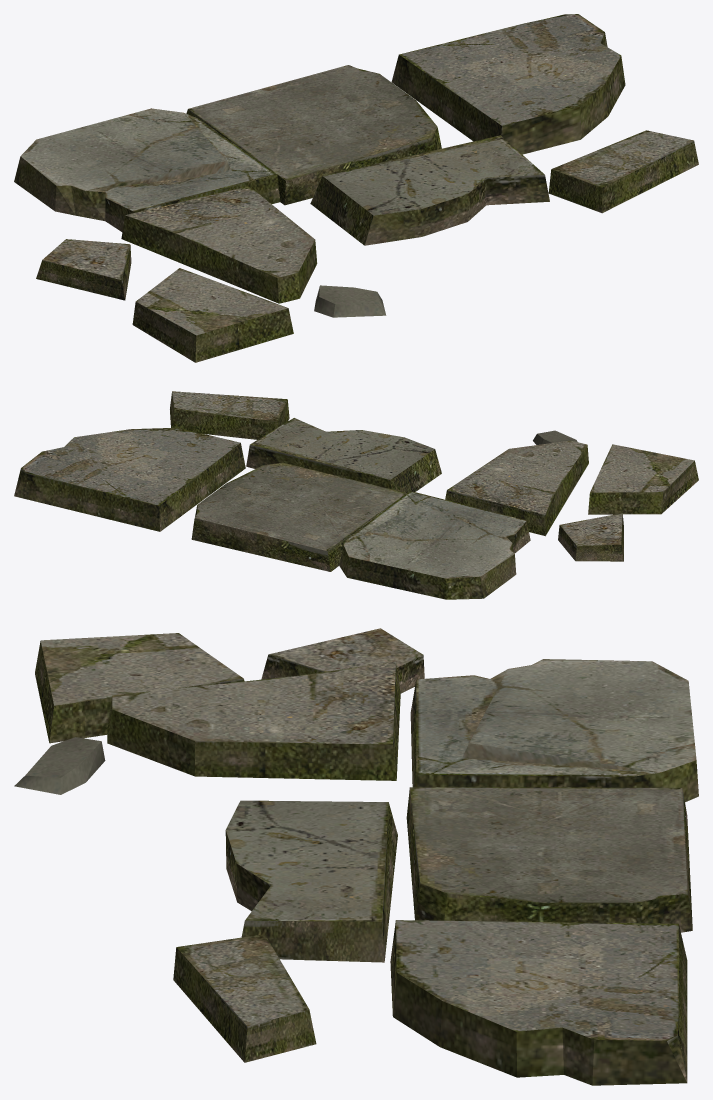
Rendered from bg_lut_lutomb_floorpiece01c_sm_old.FBX.
The picture shows the model from 3 angles, top to bottom: view 1: azimuth 30°, elevation 25°; view 2: azimuth 150°, elevation 25°; view 3: azimuth 270°, elevation 25°; orthographic projection. The views are drawn at different scales.
Parts seen in each view (by area): view 1: bg_lut_lutomb_floorpiece01c_sm_old; view 2: bg_lut_lutomb_floorpiece01c_sm_old; view 3: bg_lut_lutomb_floorpiece01c_sm_old.
Part boxes in pixels (x1,y1,x2,y2): bg_lut_lutomb_floorpiece01c_sm_old: [14, 14, 698, 362]; bg_lut_lutomb_floorpiece01c_sm_old: [14, 391, 698, 599]; bg_lut_lutomb_floorpiece01c_sm_old: [14, 628, 698, 1085].
Size of the model in its own units: 185 by 11.33 by 122.
